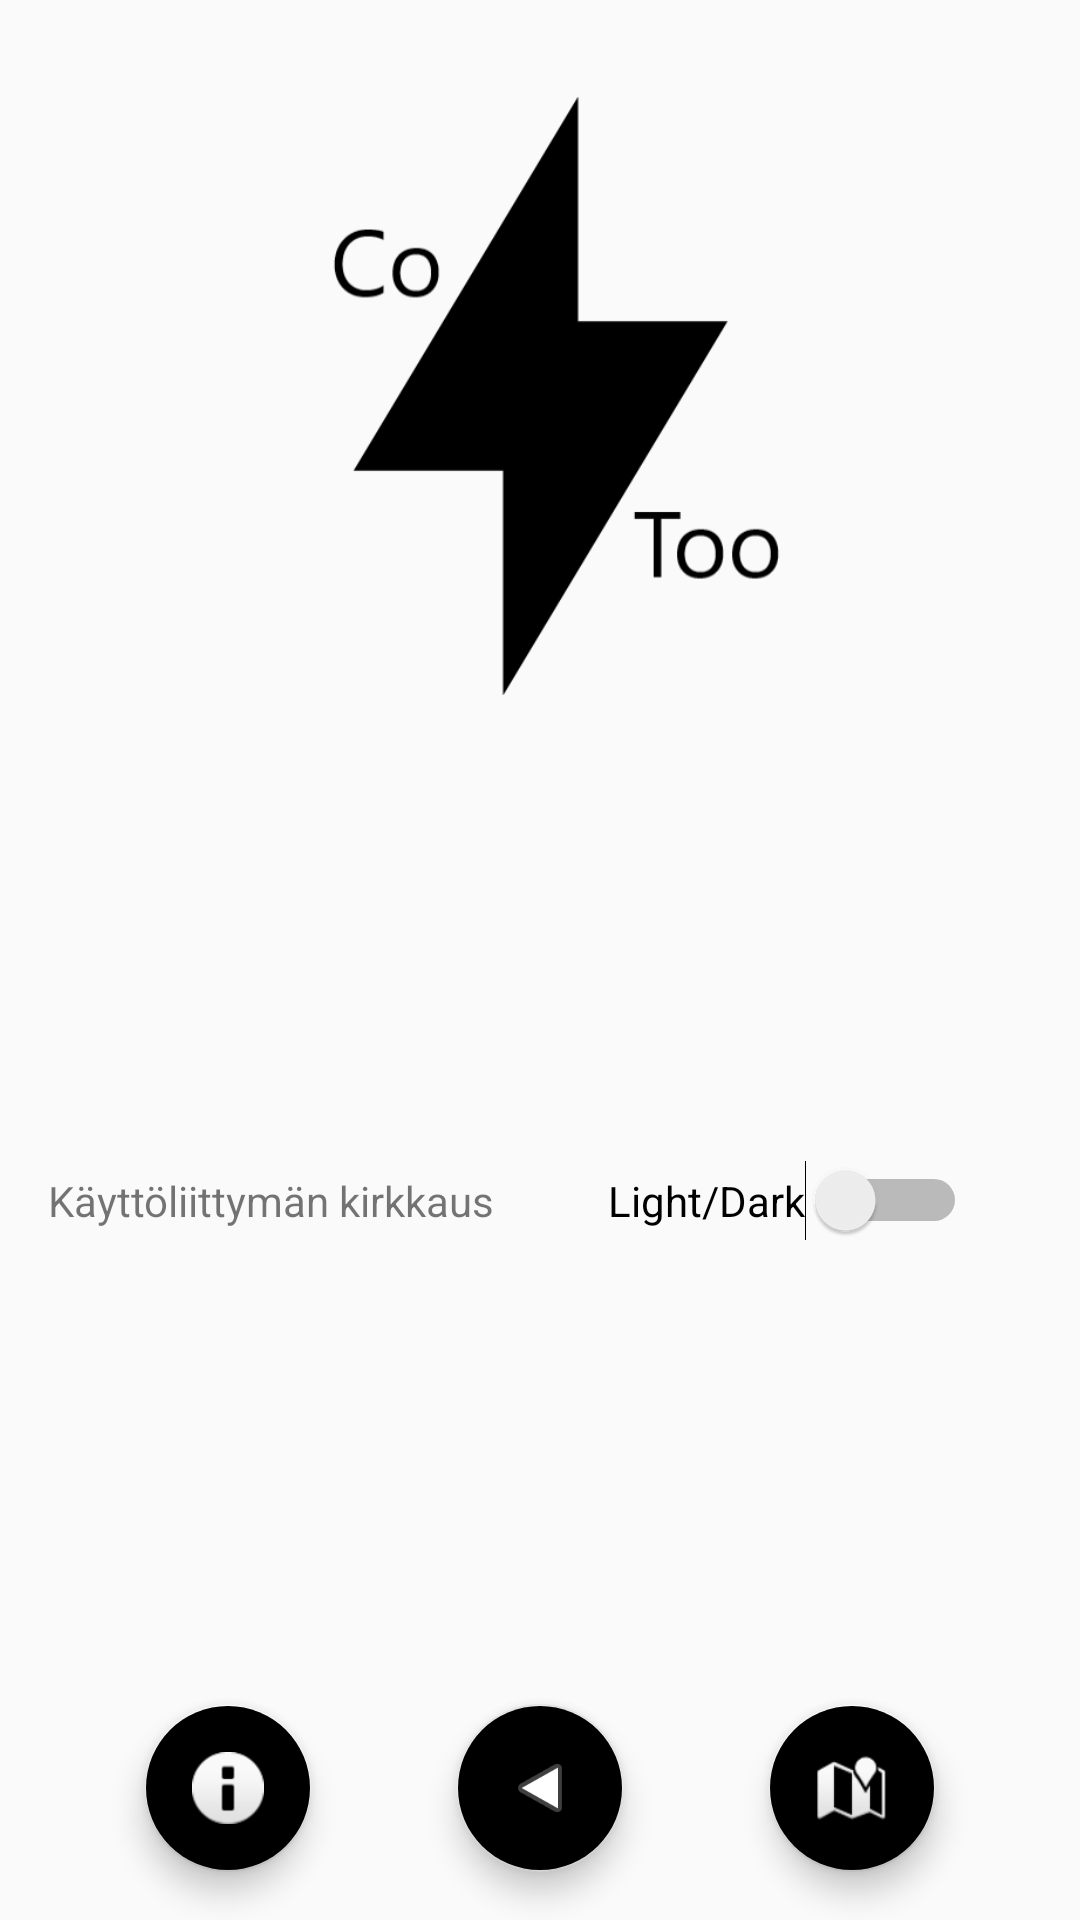

Icons on this 1080px x 1920px Android screen, each with its box as bbox=(x1, y1, x2, y2):
info icon: bbox=(144, 1706, 311, 1872)
map icon: bbox=(769, 1706, 936, 1872)
